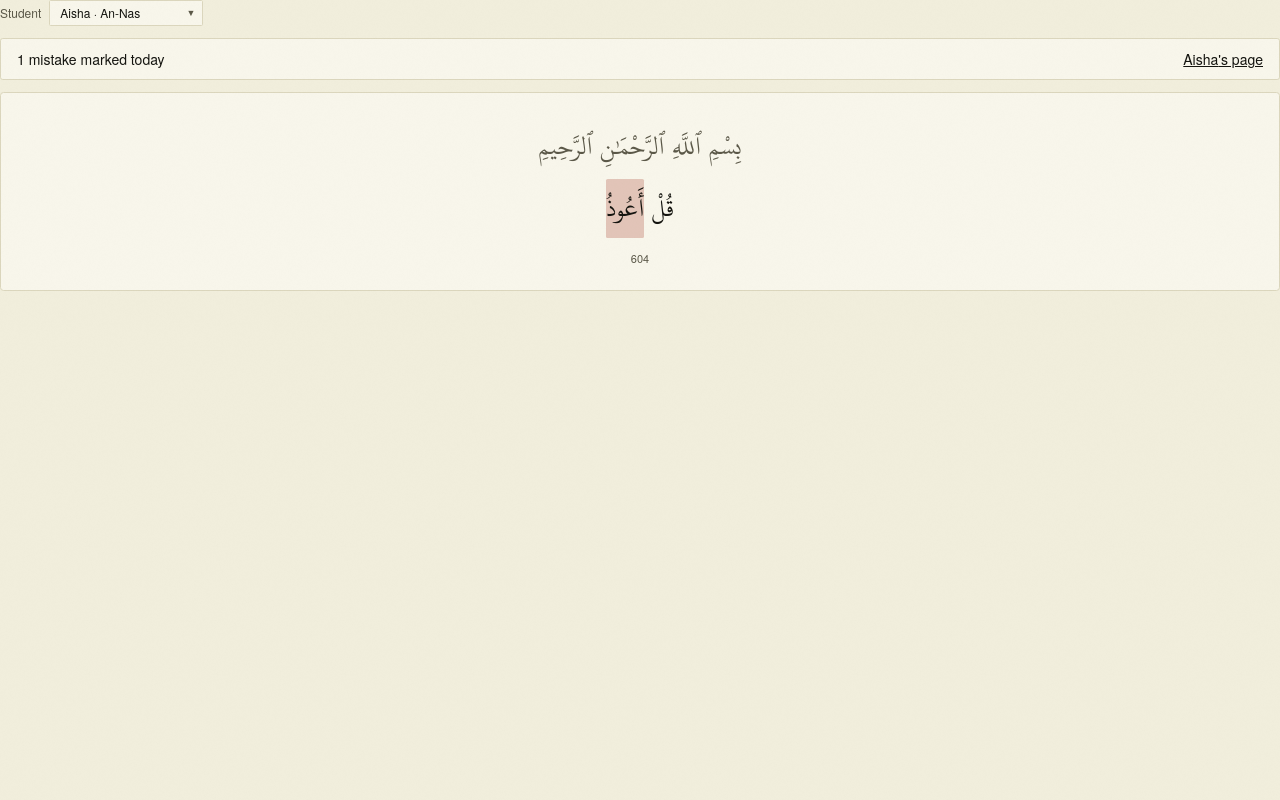
Test case: HearDesk › tapping a word marked today offers Remove, which removes the mark
The width and height of the screenshot is (1280, 800).
Check: the text "1 mistake marked today" is shown, box [17,49,165,69]
Click the button "أَعُوذُ".
click(625, 209)  # box [606,180,644,238]
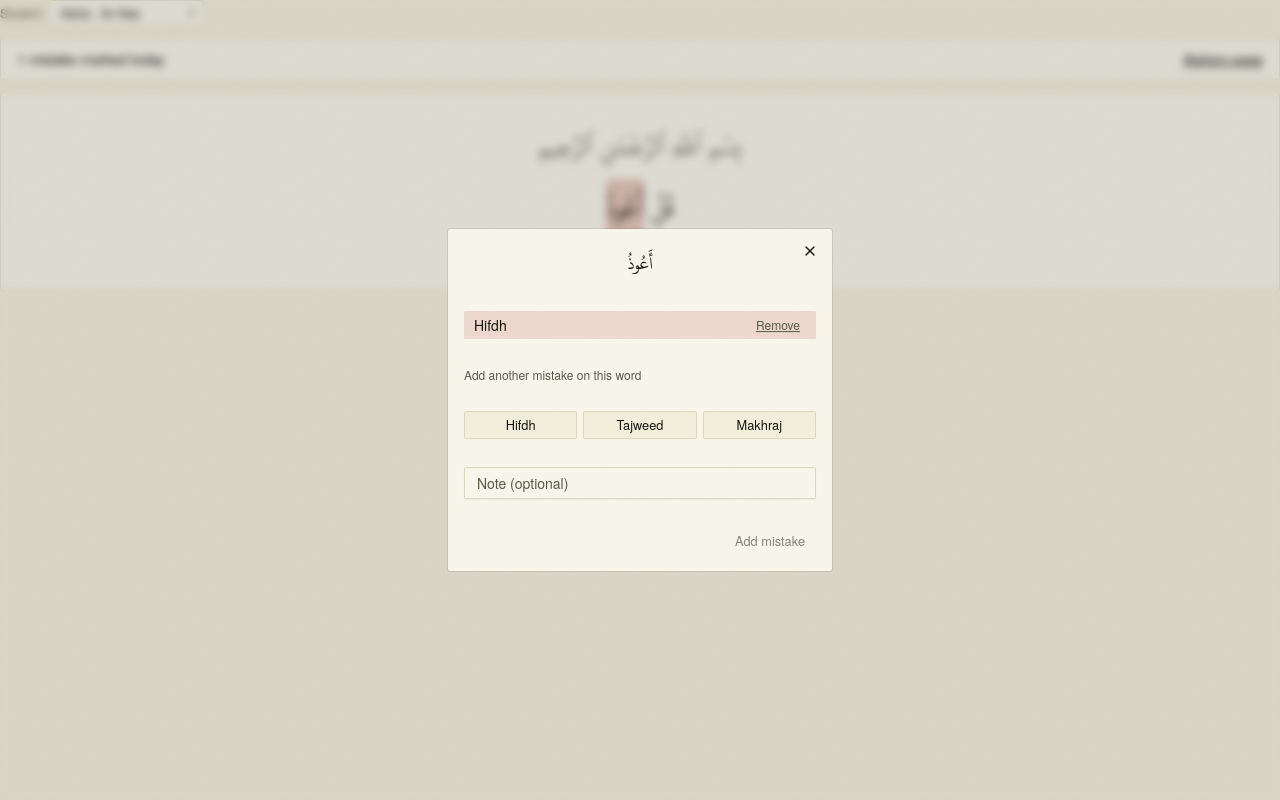
Click the button with aria-label "Remove Hifdh".
click(778, 325)  # box [750,317,806,333]
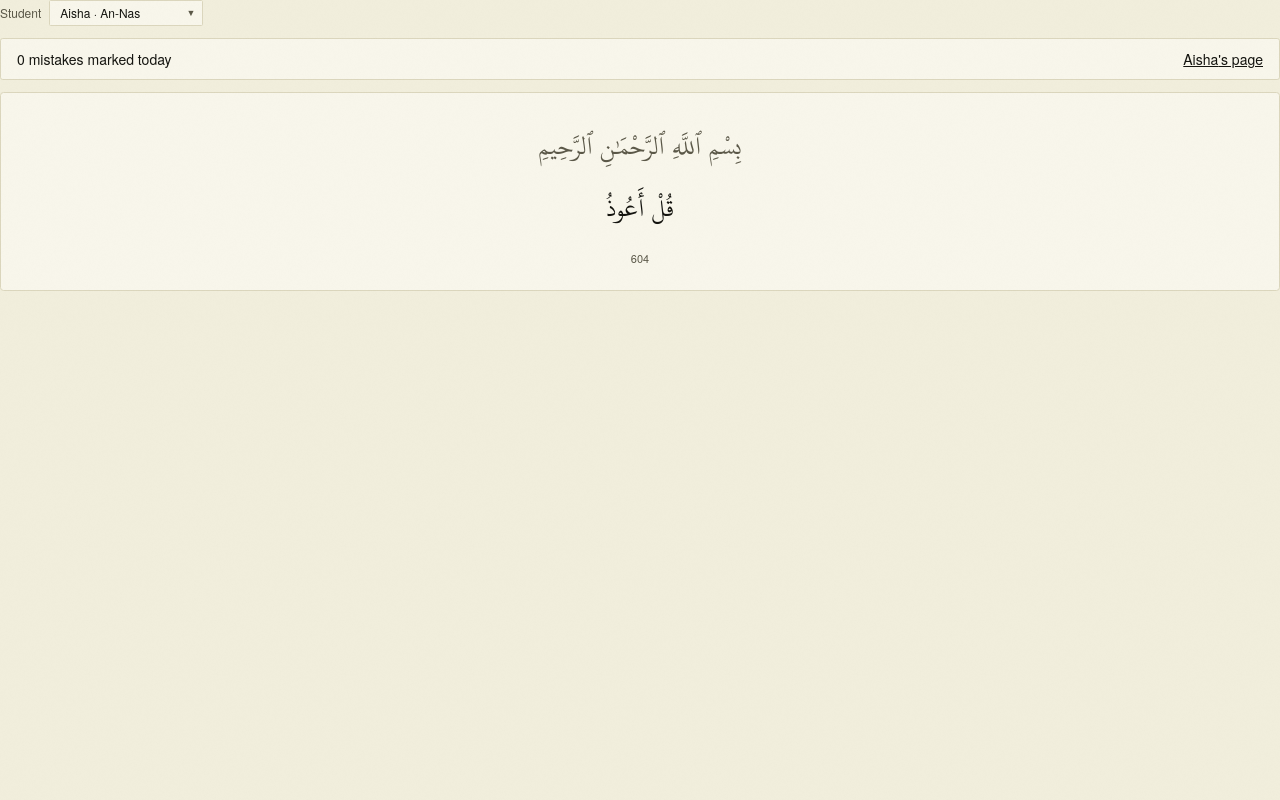
Check: the text "0 mistakes marked today" is shown, box [17,49,172,69]
